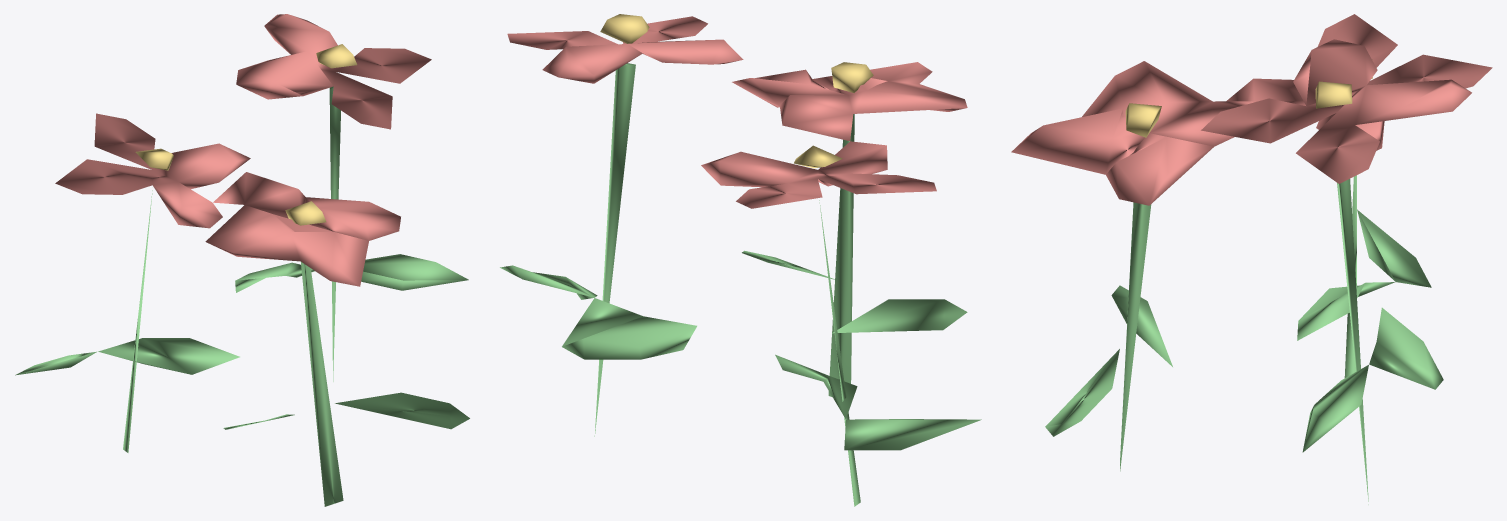
File: flower_4_spring_low.glb
The picture shows the model from 3 angles, left to right: view 1: azimuth 30°, elevation 25°; view 2: azimuth 150°, elevation 25°; view 3: azimuth 270°, elevation 25°; orthographic projection. The views are drawn at different scales.
Bounding box in the file's own units: 0.5021 × 0.4073 × 0.4064.
